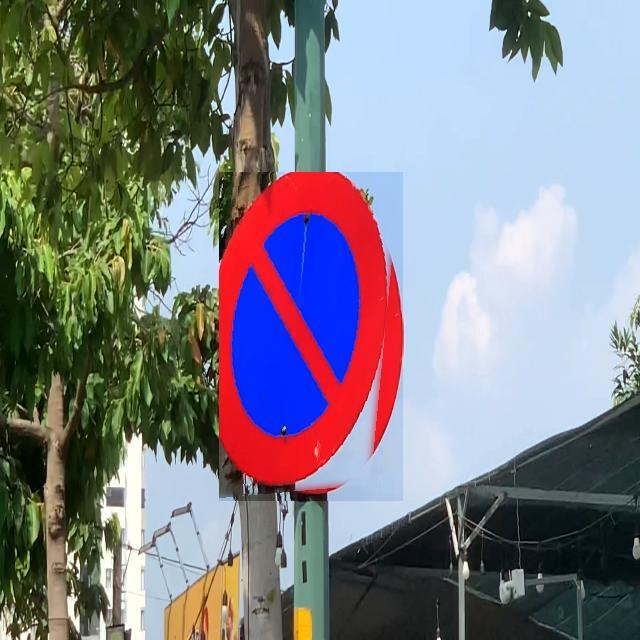P-131a: (220, 172, 404, 501)
